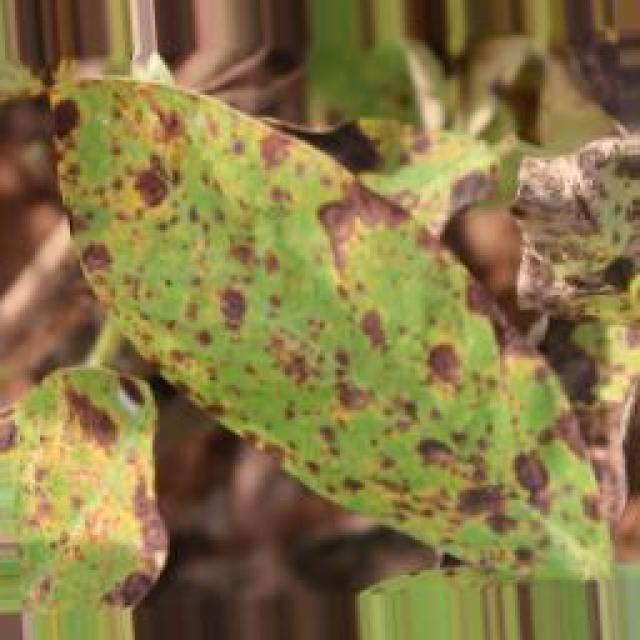Yellowish: (0, 48, 627, 601)
